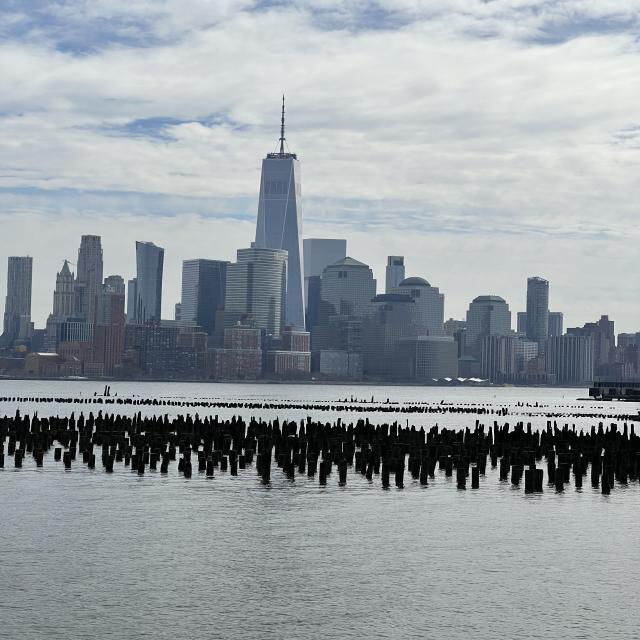WTC: (255, 95, 304, 249)
